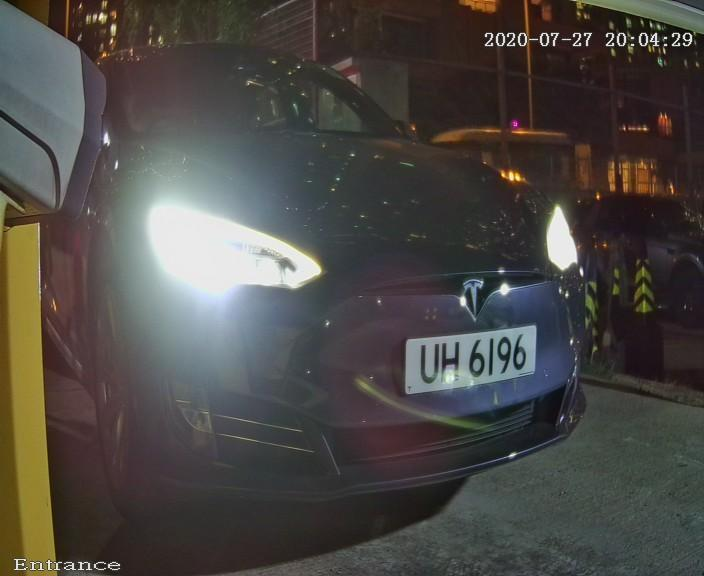privatecar: (67, 8, 613, 535)
